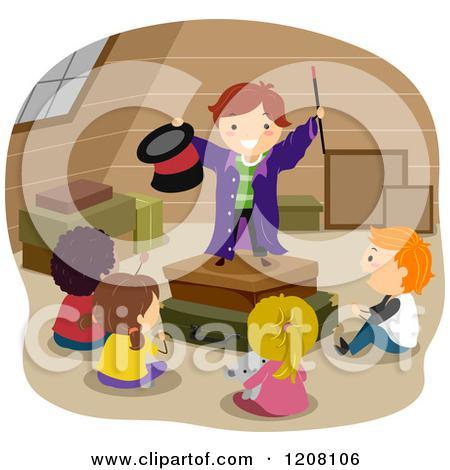person: (190, 75, 309, 268), (336, 218, 435, 359), (230, 289, 316, 420), (89, 269, 174, 390), (40, 218, 107, 348)
